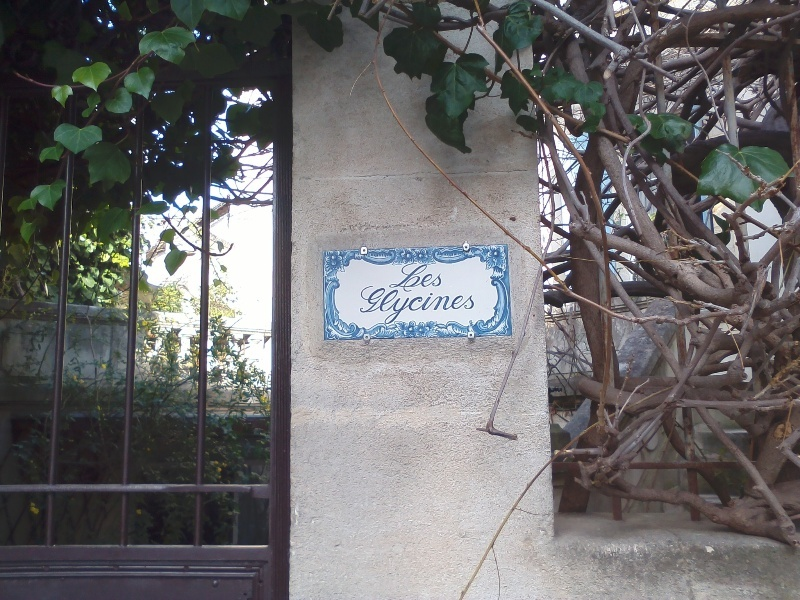text: (369, 286, 384, 325), (385, 286, 400, 325), (401, 286, 416, 325), (417, 286, 432, 325), (433, 286, 448, 325), (449, 286, 464, 325), (401, 261, 416, 293), (417, 261, 432, 293), (357, 286, 368, 325), (465, 286, 476, 325), (389, 261, 400, 293), (433, 261, 443, 293)
